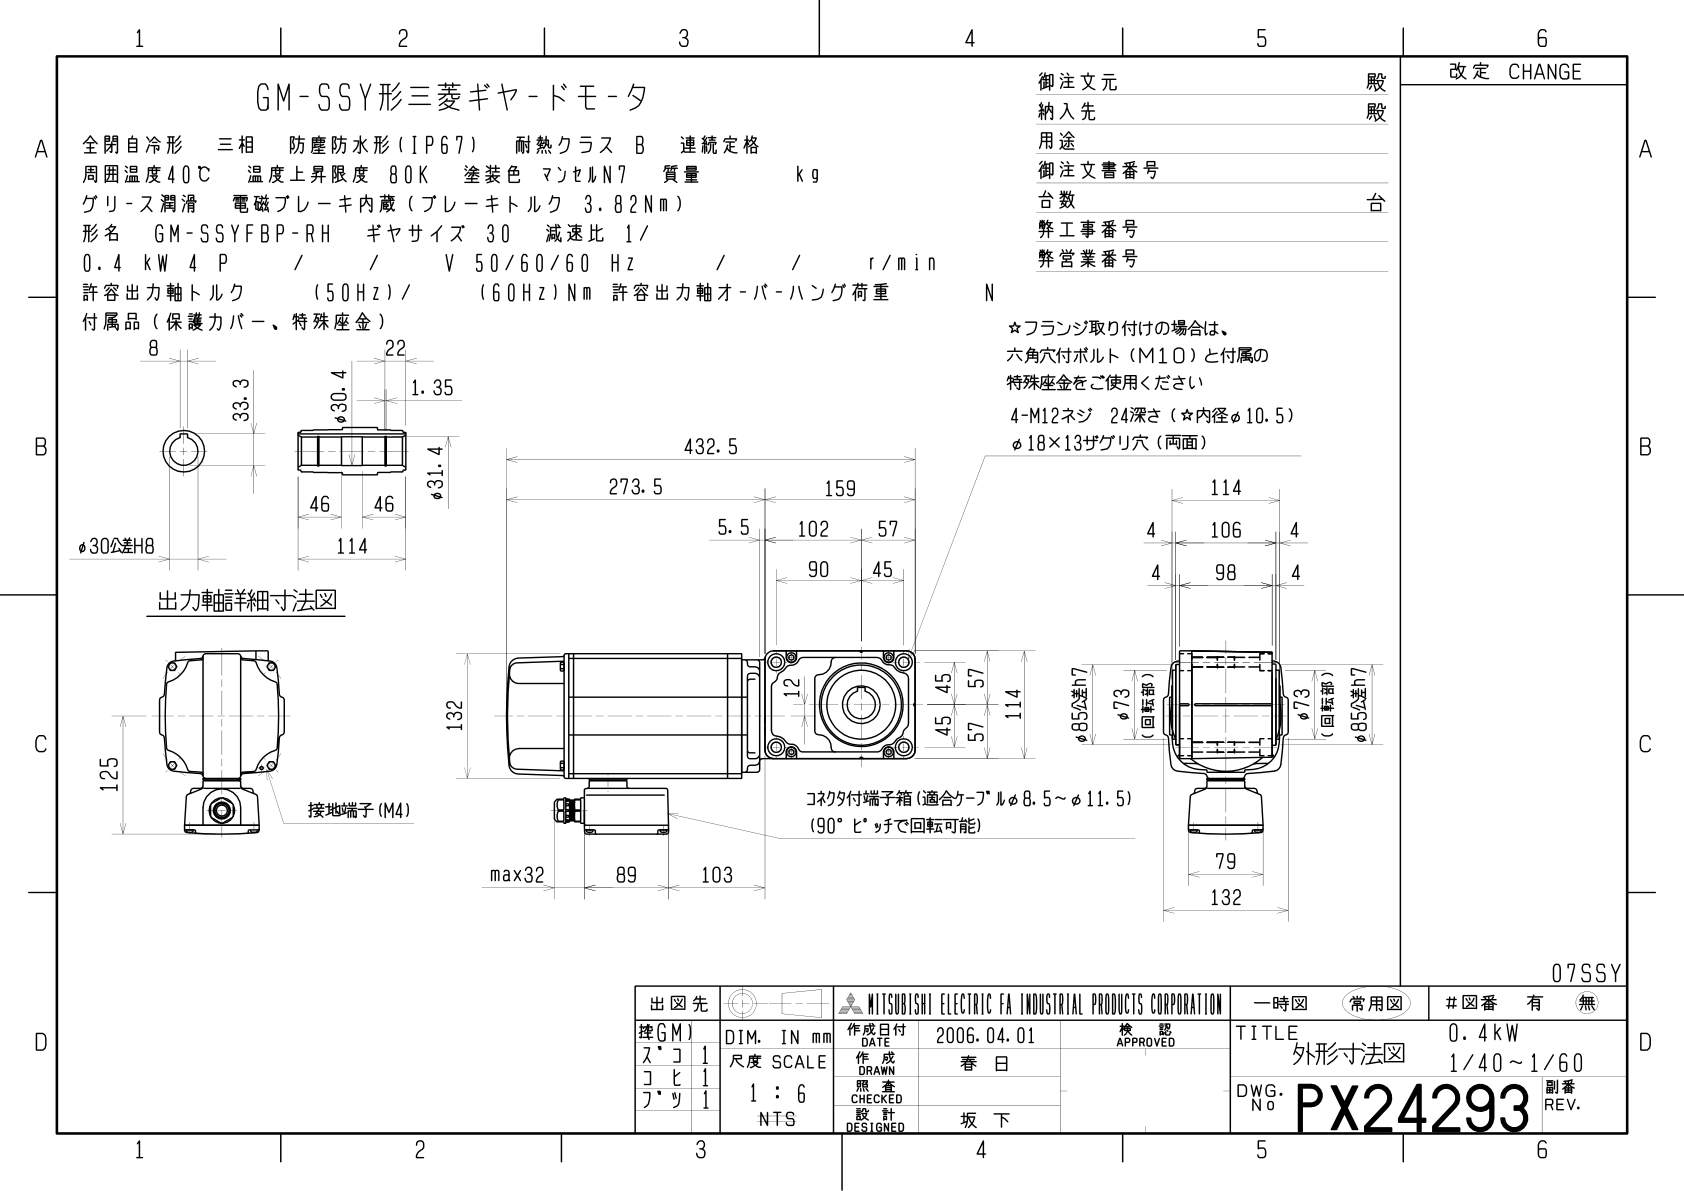GM_SSY_IP67_三相: (73, 335, 1385, 962)
